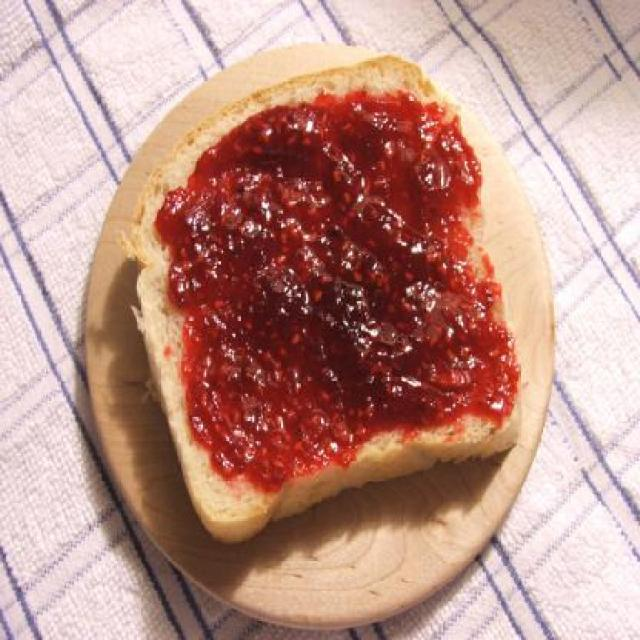Spread: (152, 90, 520, 484)
